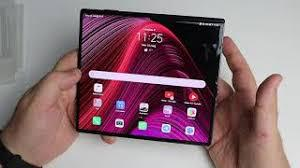Hand: (25, 51, 124, 162), (211, 40, 285, 168)
Smartphone: (80, 7, 221, 147)
